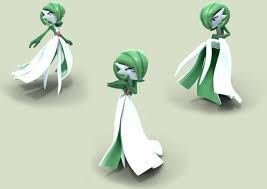gardevoir: (97, 47, 166, 177), (172, 2, 240, 108), (13, 2, 74, 94)
